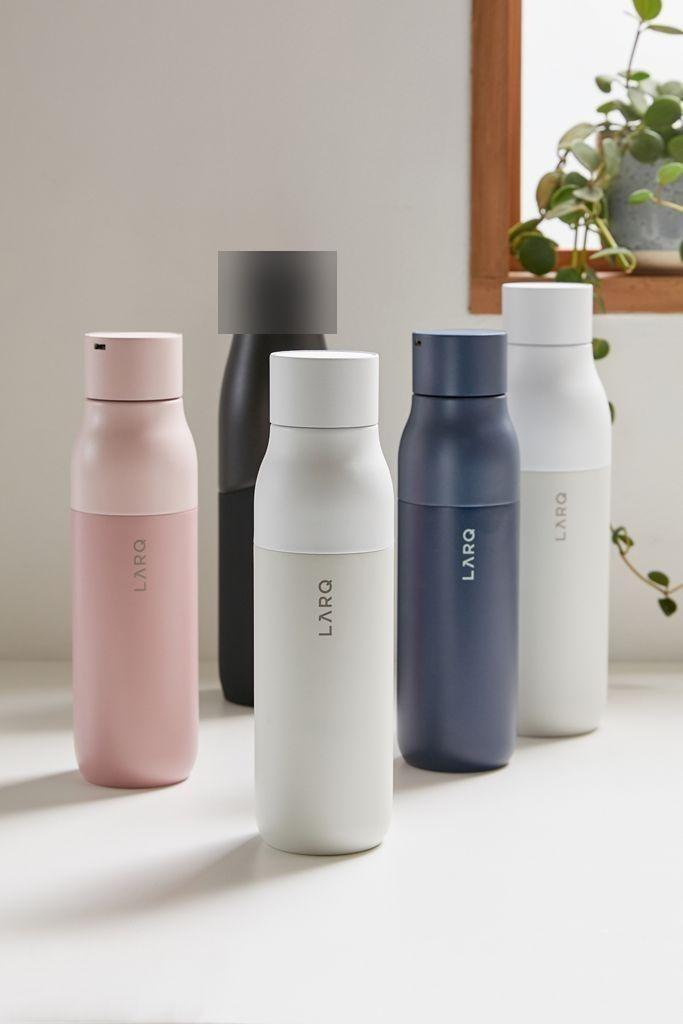gym bottle: (250, 345, 396, 860), (69, 327, 203, 795), (395, 330, 525, 777), (503, 283, 617, 741)
